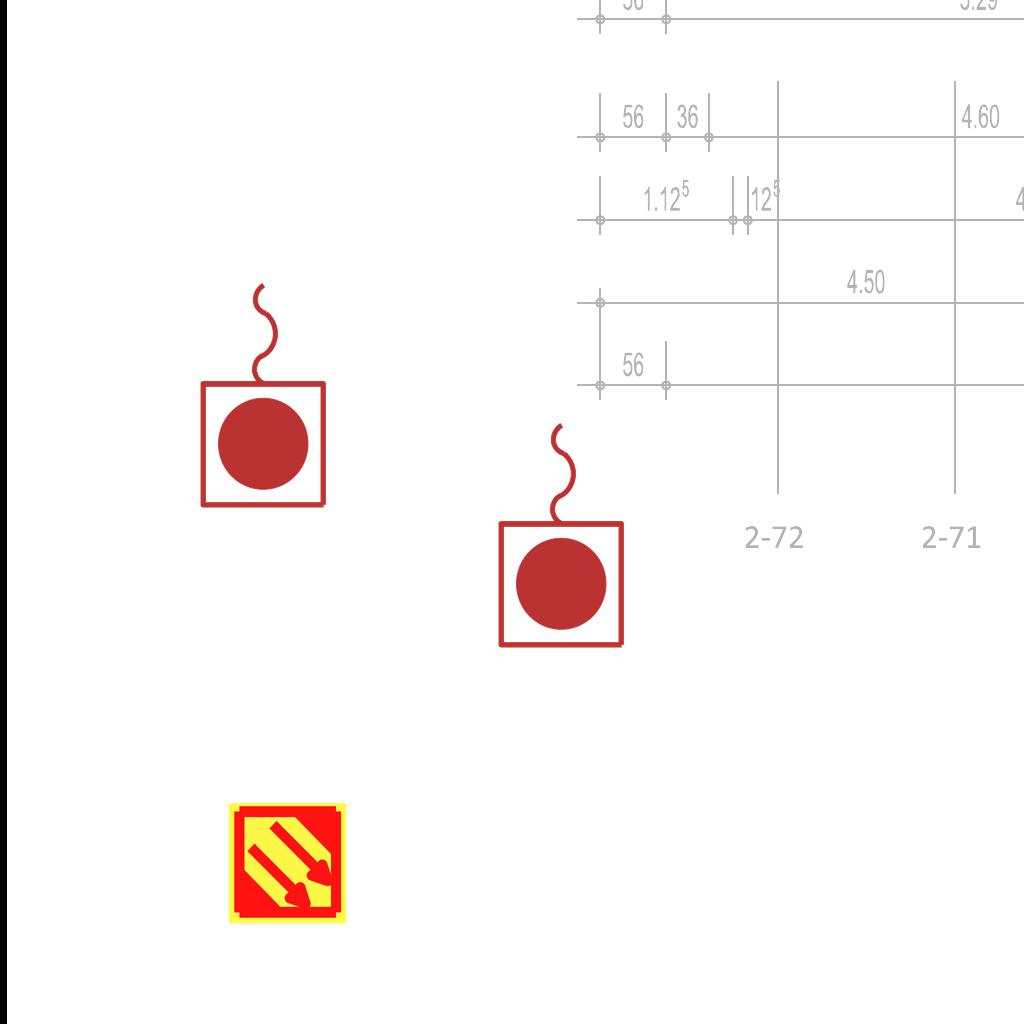ASR_Ansaugrauchmelder: (225, 801, 350, 926)
Zugtaster: (491, 412, 635, 656), (193, 272, 337, 516)
